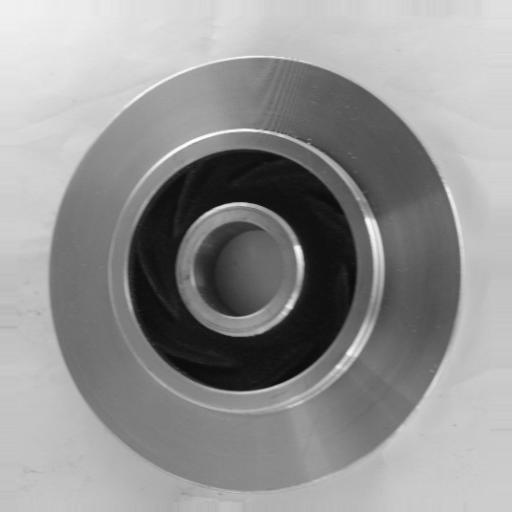polished_casting: (48, 54, 463, 494)
